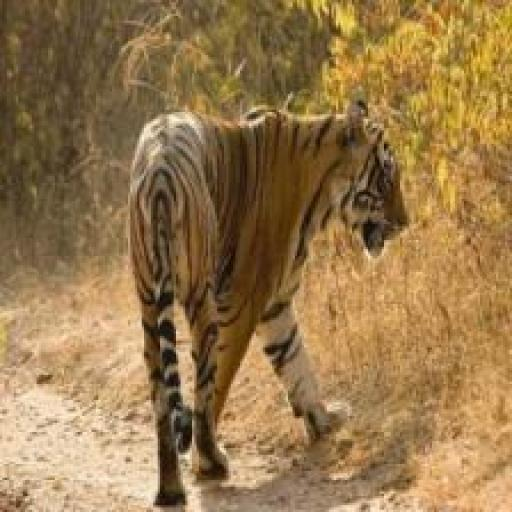Tiger: (126, 102, 410, 510)
